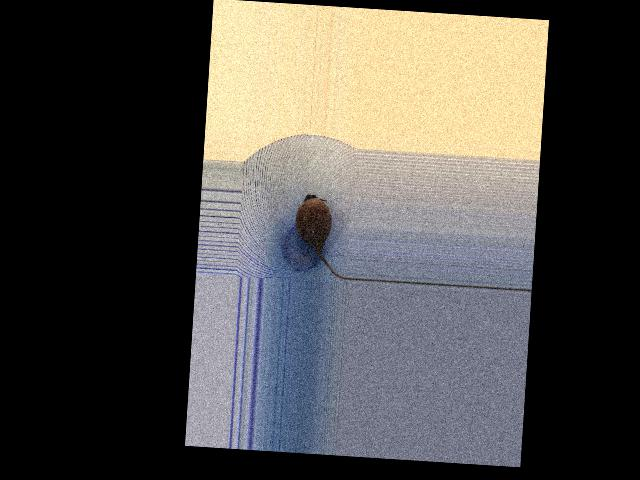beet: (292, 193, 353, 279)
